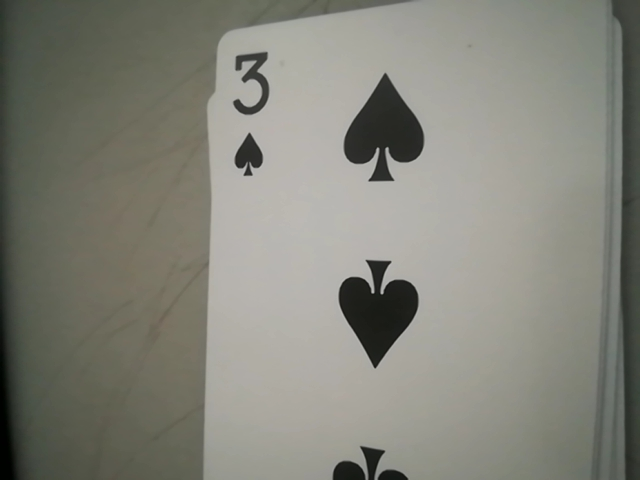ht 3: (211, 49, 297, 186)
